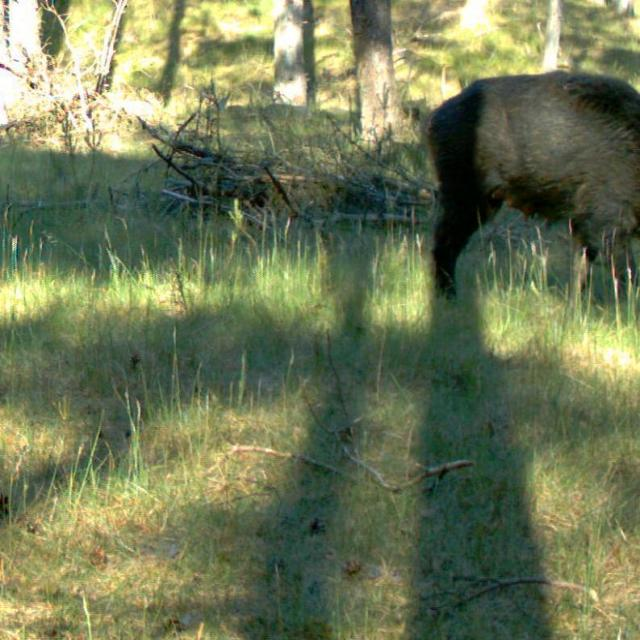pig: (424, 48, 640, 339)
